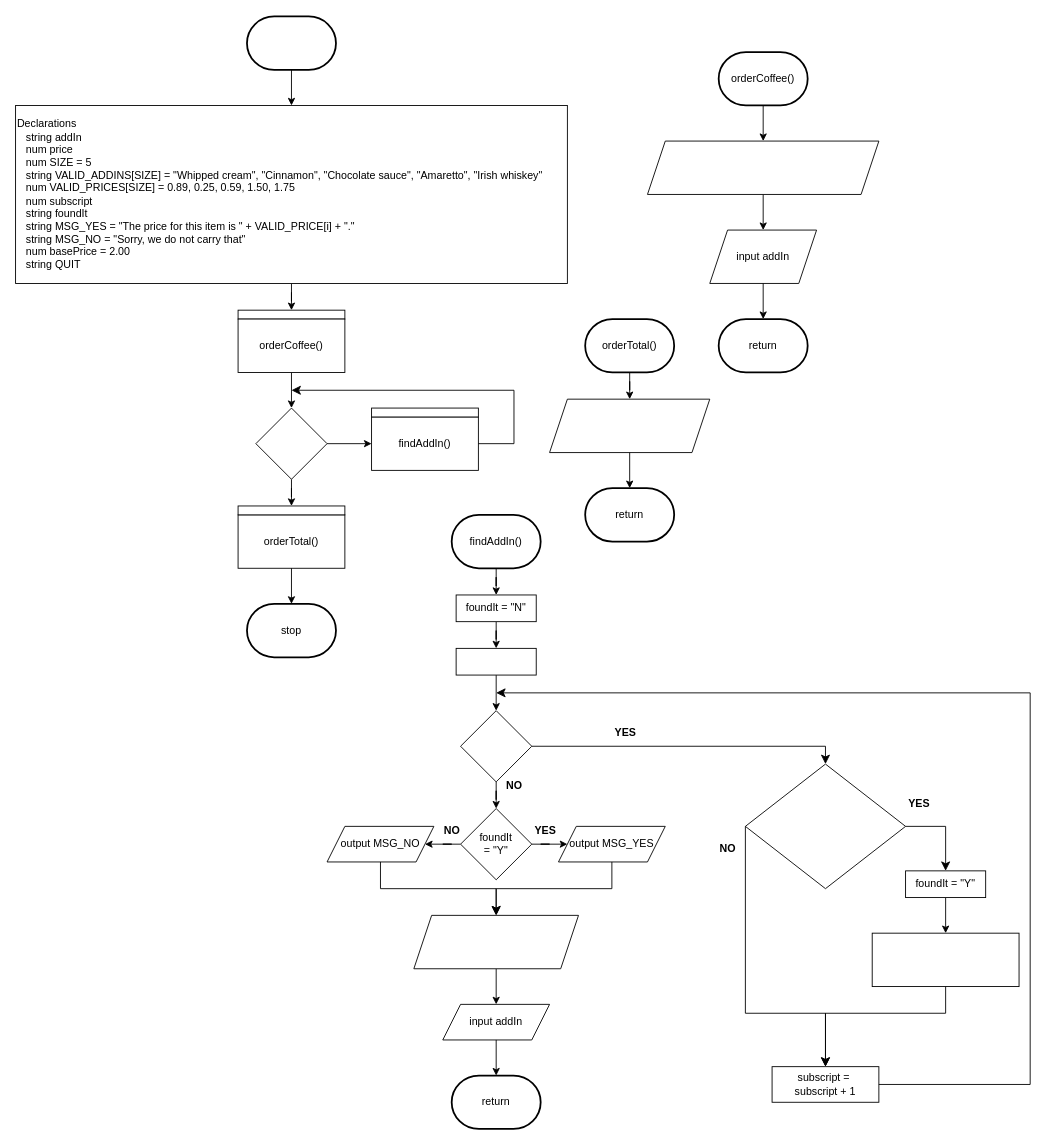
Image size: 1055x1145. Some labels were removed from this diagram. Here are the shapes that lost their labels. From the top down, the box of each, then its label:
(246, 15, 336, 70): start
(647, 140, 879, 194): output "What would you like to add in your coffee today?" or QUIT
(255, 407, 327, 479): addIn <> QUIT?
(549, 398, 710, 453): output "Your total price today is" + (basePrice + VALID_PRICES[i]) + "."
(455, 647, 536, 675): subscript = 0
(460, 710, 532, 782): subscript < SIZE?
(744, 763, 906, 889): addIn = VALID_ADDINS[subscript]?
(413, 914, 578, 969): output "Enter next add-in or ", QUIT, " to finish."
(871, 932, 1019, 987): price = VALID_PRICES[subscript}
